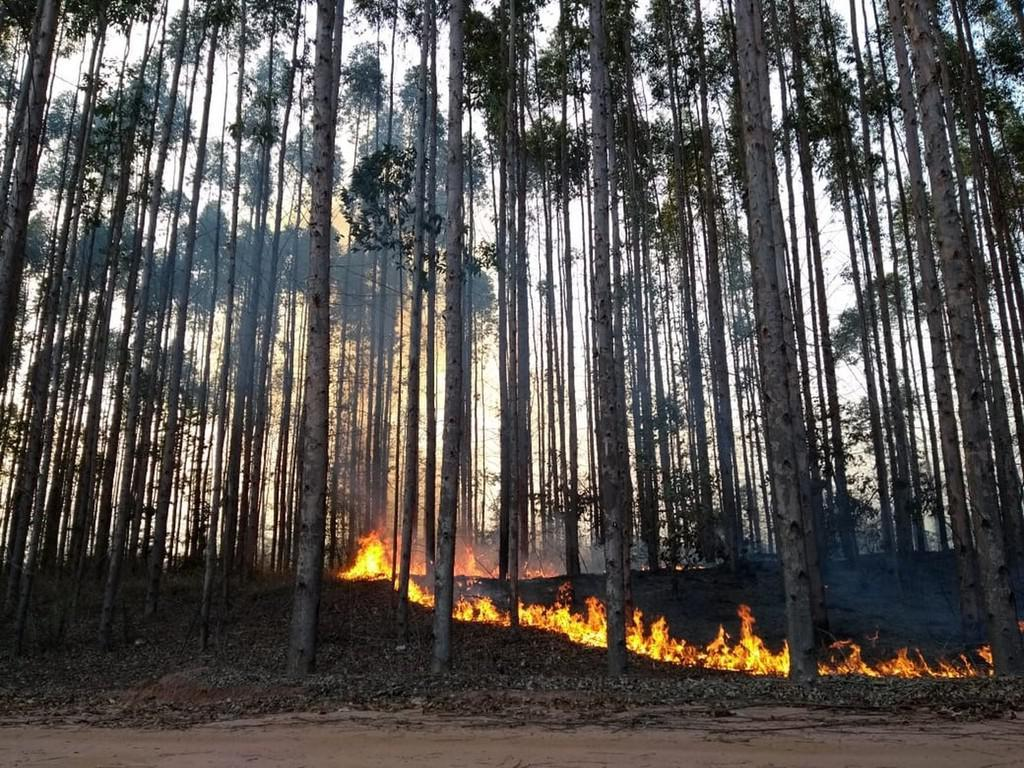Fire: (332, 526, 1005, 687)
